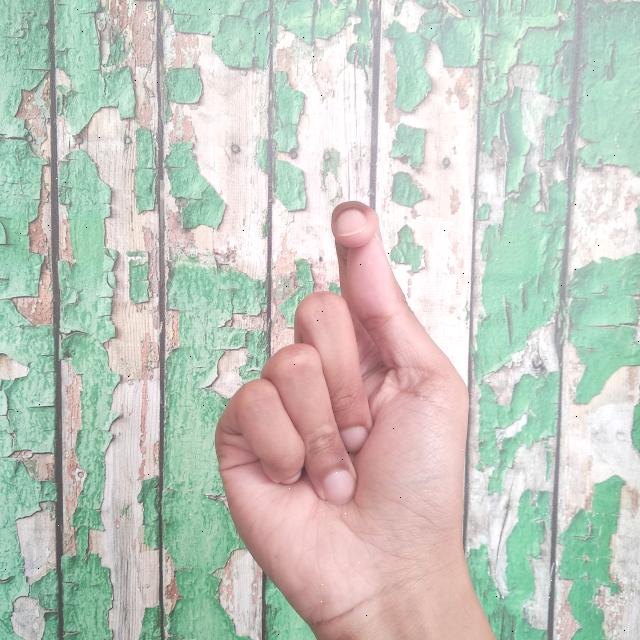T: (212, 195, 499, 640)
